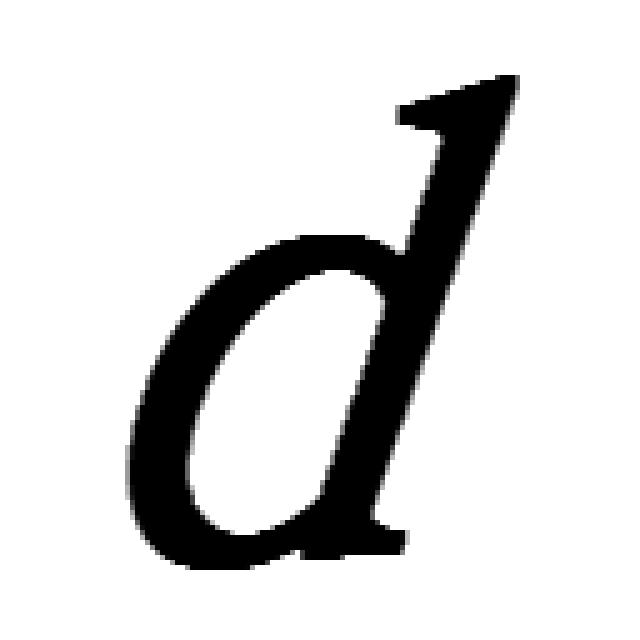D: (120, 65, 525, 575)
